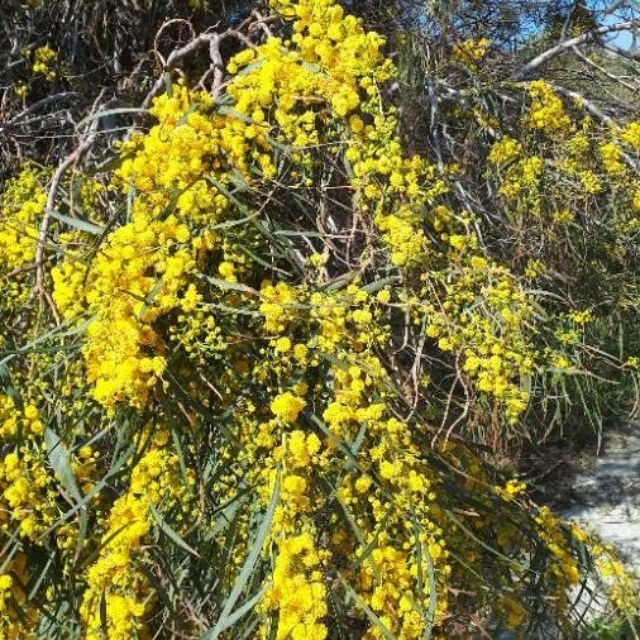obstacle: (96, 91, 546, 569)
